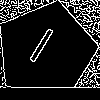I: (21, 26, 57, 73)
